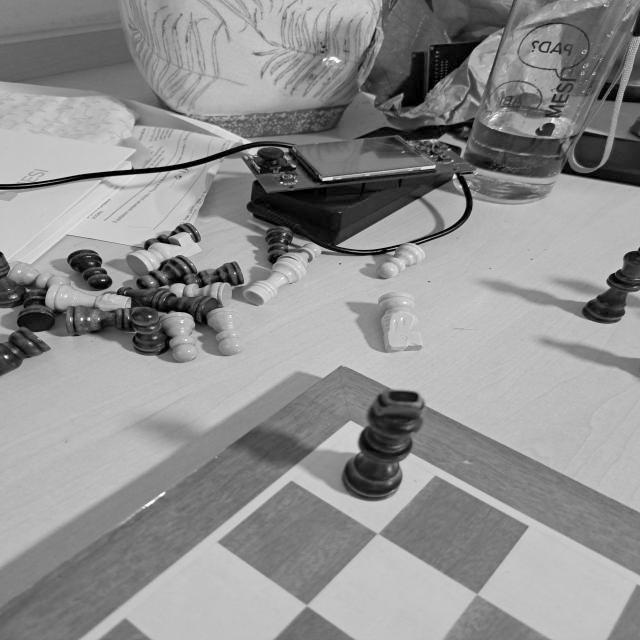chess-table-corners: (342, 415, 361, 428)
